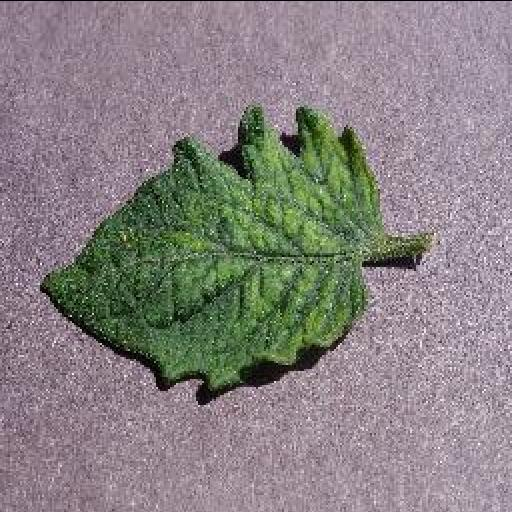disease_tomato: (39, 100, 381, 390)
